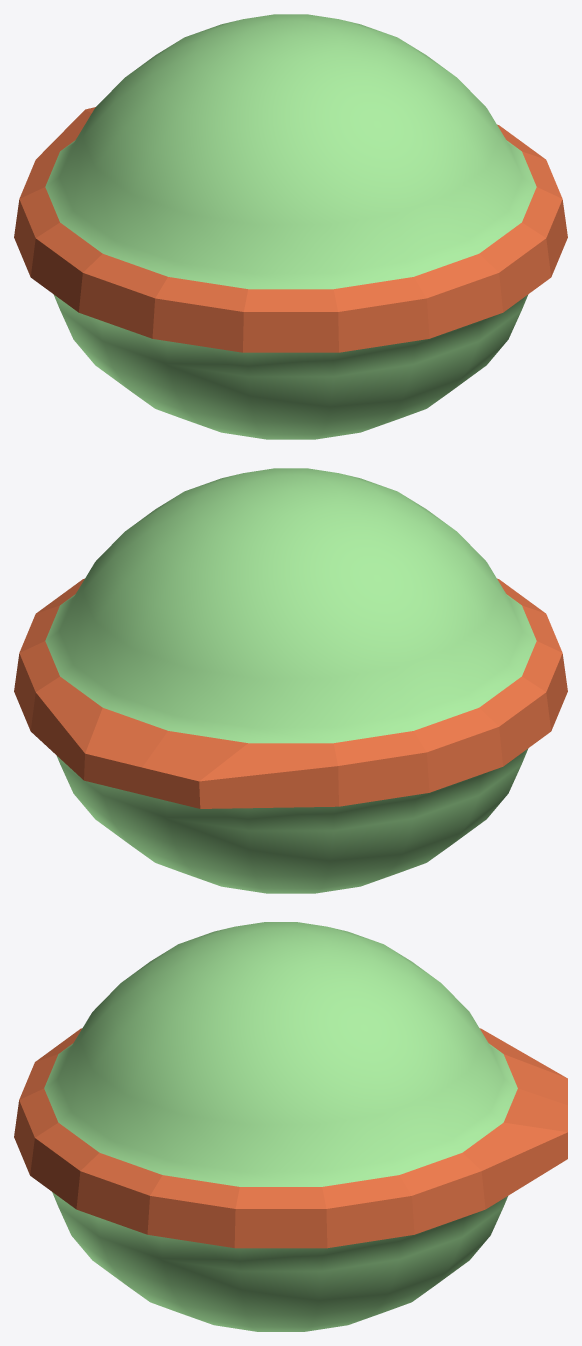
File: TempPlayer.glb
3 views of the same model, one above another, from view 1: azimuth 30°, elevation 25°; view 2: azimuth 150°, elevation 25°; view 3: azimuth 270°, elevation 25° (orthographic). The views are drawn at different scales.
Parts seen in each view (by area): view 1: Cube; view 2: Cube; view 3: Cube.
Boxes of the visible parts, bbox=[...] form: Cube: bbox=[14, 14, 567, 439]; Cube: bbox=[14, 468, 567, 893]; Cube: bbox=[14, 922, 567, 1331].
Bounding box in the file's own units: 1.48 × 1.11 × 1.56.
